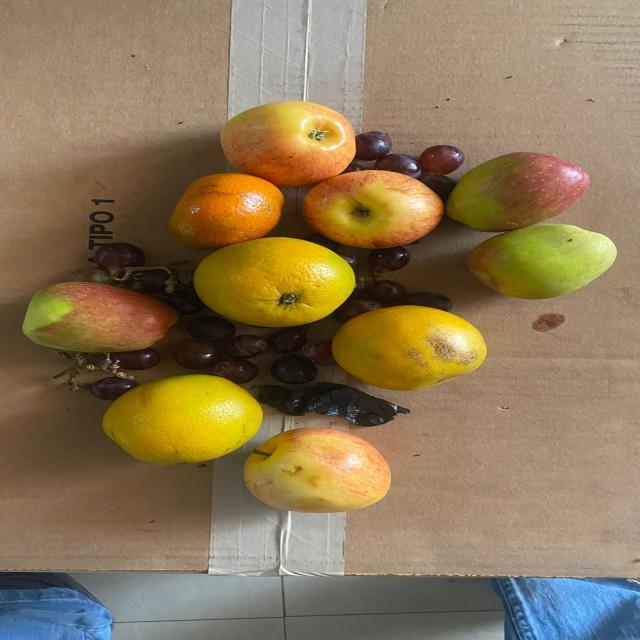bolsa_negra: (258, 382, 414, 429)
